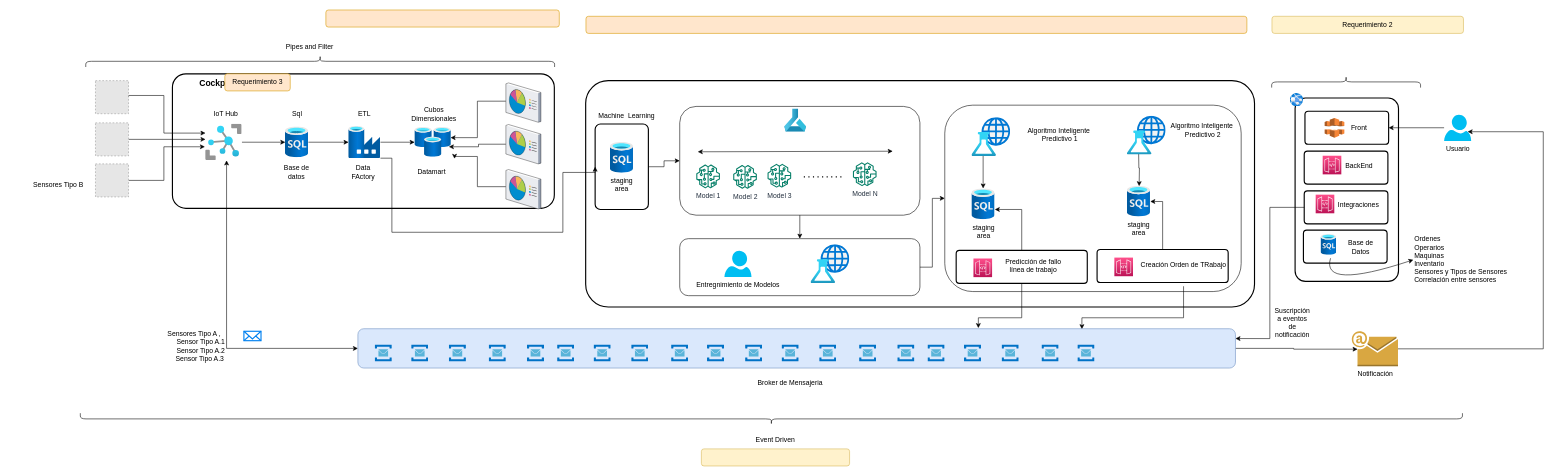
This 1558x476 diagram has some shape labels left out. Grey dashed boxes stand in for pictures. The box of each missing label's shape, as (x1, y1, x2, y2) in pixels:
Capas: (1271, 76, 1421, 88)
Machine Learning Parallel Step: (784, 108, 806, 132)
Requerimiento 1: (325, 9, 559, 27)
Requerimiento 5: (701, 448, 850, 466)
Requerimiento 6: (585, 16, 1247, 33)
Seleción de algoritmo: (811, 244, 849, 283)
